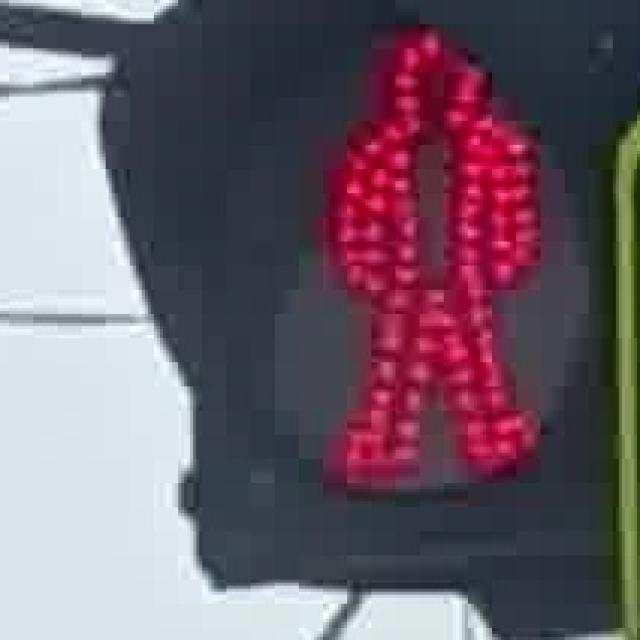red-crossing: (290, 12, 538, 489)
